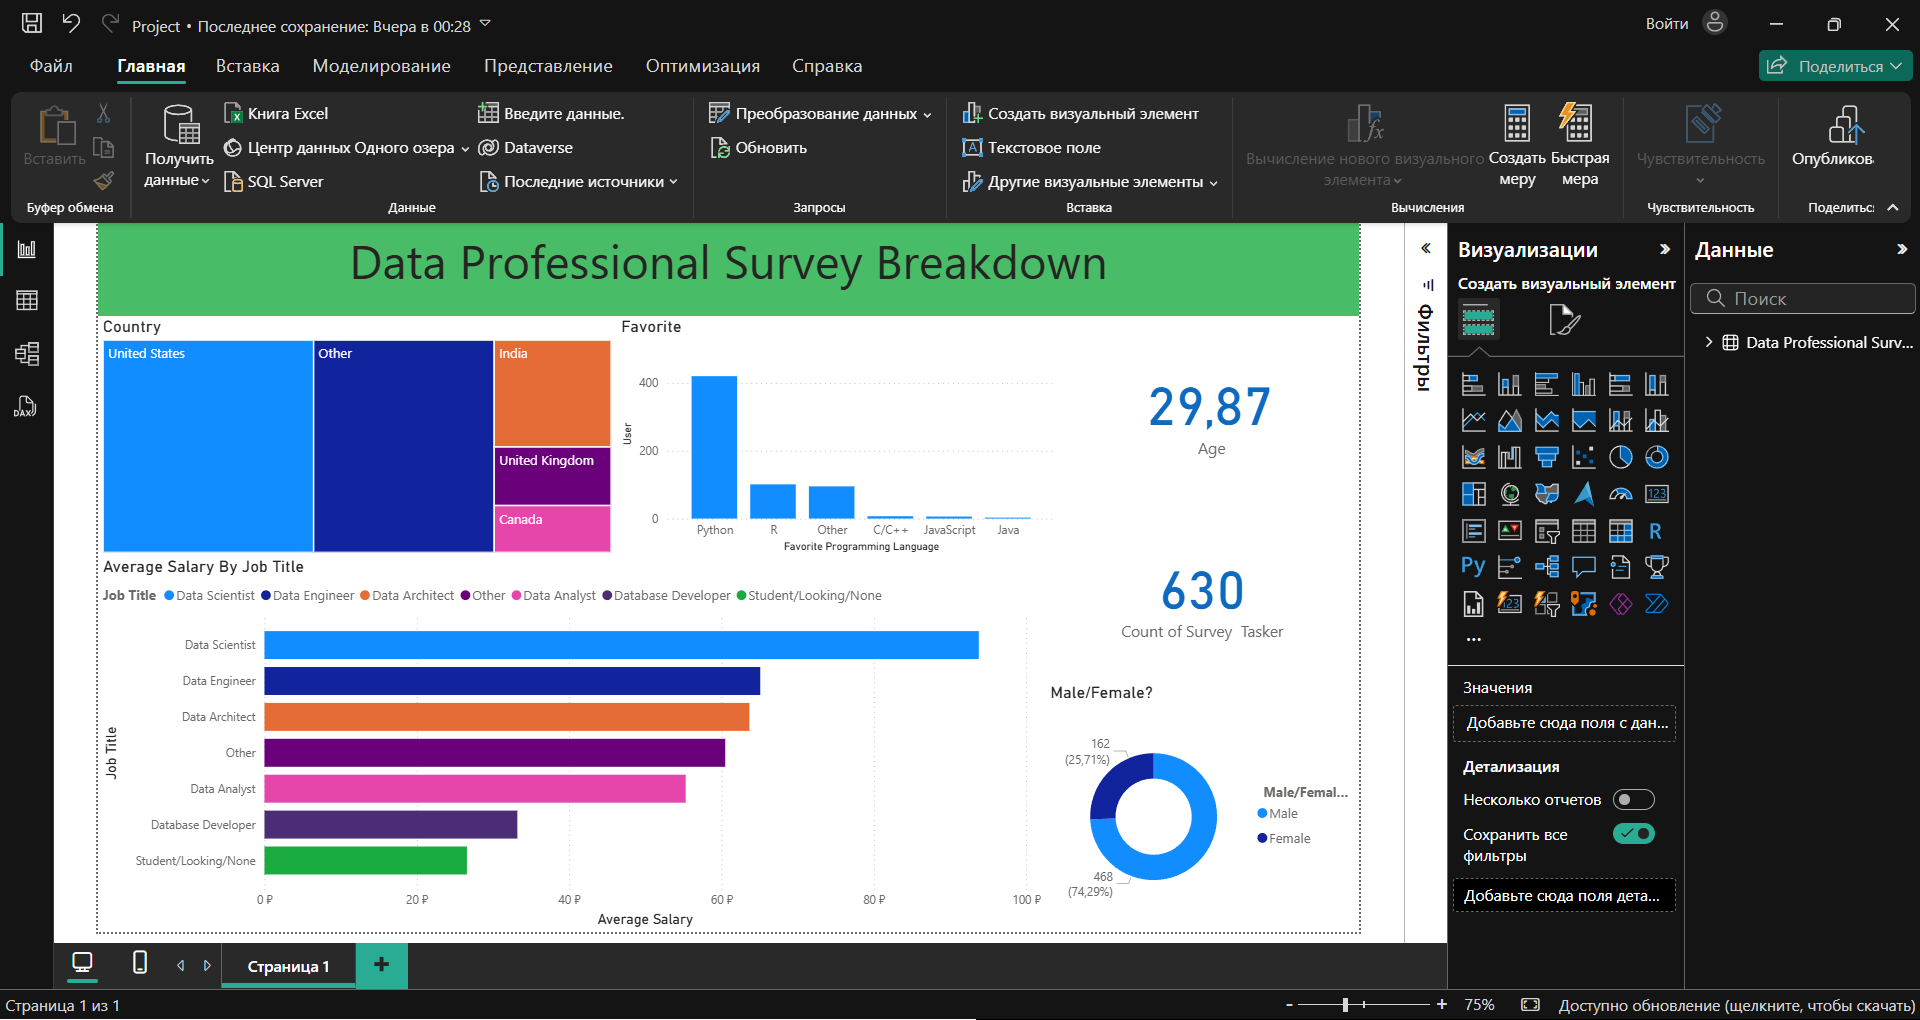

This screenshot's page, from the dashboard's own definition file:
{"tool":"powerbi","page":{"name":"Страница 1","canvas":[1280,720],"ordinal":0},"visuals":[{"type":"textbox","box":[0,0,1280.8,94.5],"z":0},{"type":"card","fields":{"Values":["CountNonNull(Data Professional Survey.Unique ID)"]},"box":[962.8,284.8,318,181.7],"z":1000},{"type":"clusteredColumnChart","title":"Favorite","fields":{"Category":["Data Professional Survey.Q5 - Favorite Programming Language.1"],"Y":["Count(Data Professional Survey.Unique ID)"]},"box":[525.9,94.4,450.8,244.6],"z":2000},{"type":"barChart","title":" Average Salary  By Job Title","fields":{"Category":["Data Professional Survey.Q1 - Which Title Best Fits your Current Role?.1"],"Y":["Avg(Data Professional Survey.Average Salary)"],"Series":["Data Professional Survey.Q1 - Which Title Best Fits your Current Role?.1"]},"box":[317.3,0,962.5,381.3],"z":3000},{"type":"card","fields":{"Values":["Avg(Data Professional Survey.Q10 - Current Age)"]},"box":[976.7,94.4,304,190.5],"z":4000},{"type":"treemap","title":"Country ","fields":{"Group":["Data Professional Survey.Q11 - Which Country do you live in?.1"],"Values":["CountNonNull(Data Professional Survey.Q11 - Which Country do you live in?.1)"]},"box":[0,94.4,525.9,244.6],"z":5000},{"type":"donutChart","title":"  Male/Female?","fields":{"Category":["Data Professional Survey.Q9 - Male/Female?"],"Y":["CountNonNull(Data Professional Survey.Q9 - Male/Female?)"]},"box":[962.8,466.5,318,253.4],"z":6000}]}

Visuals, with their boxes on the page's 1280x720 design canvas (x1, y1, x2, y2). These are canvas units, not pixel positions in the 1920x1020 screenshot, which may show the page scaled, cropped or inside an application window:
textbox: <box>0,0,1281,94</box>
card - CountNonNull(Data Professional Survey.Unique ID): <box>963,285,1281,466</box>
"Favorite" clusteredColumnChart: <box>526,94,977,339</box>
" Average Salary  By Job Title" barChart: <box>317,0,1280,381</box>
card - Avg(Data Professional Survey.Q10 - Current Age): <box>977,94,1281,285</box>
"Country " treemap: <box>0,94,526,339</box>
"  Male/Female?" donutChart: <box>963,466,1281,720</box>
